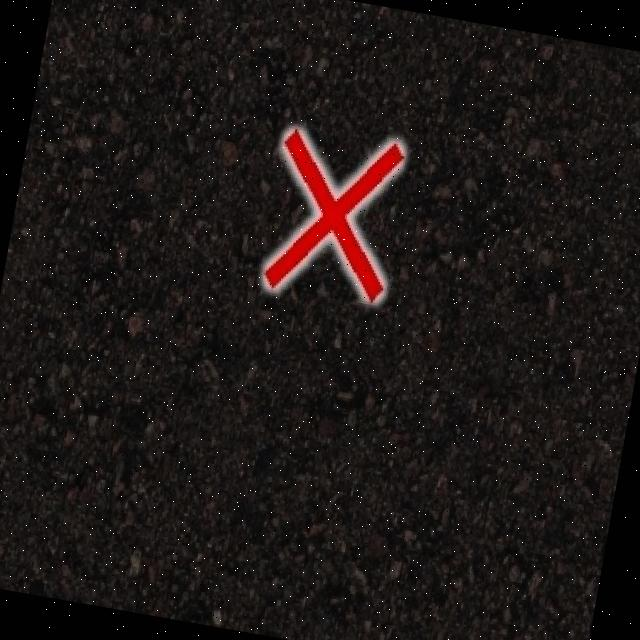x_marker: (258, 123, 406, 304)
